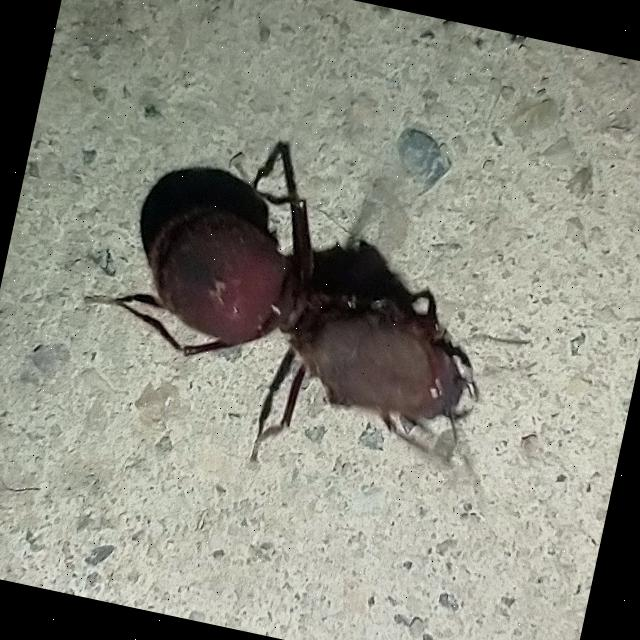Alive-Female-Dealate: (58, 106, 524, 505)
